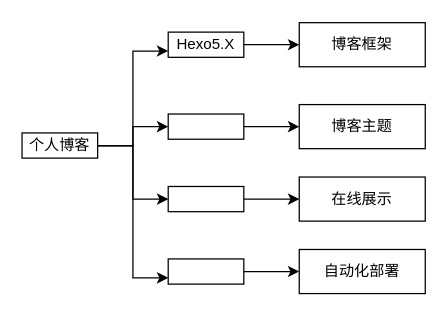
This 447x315 diagram has some shape labels left out. Here are the shapes that lost their labels. From the top down, the centre of each, then its label:
At (x=205, y=126): "Next8.X".
At (x=205, y=198): "Github Pages".
At (x=205, y=271): "Github Action".
